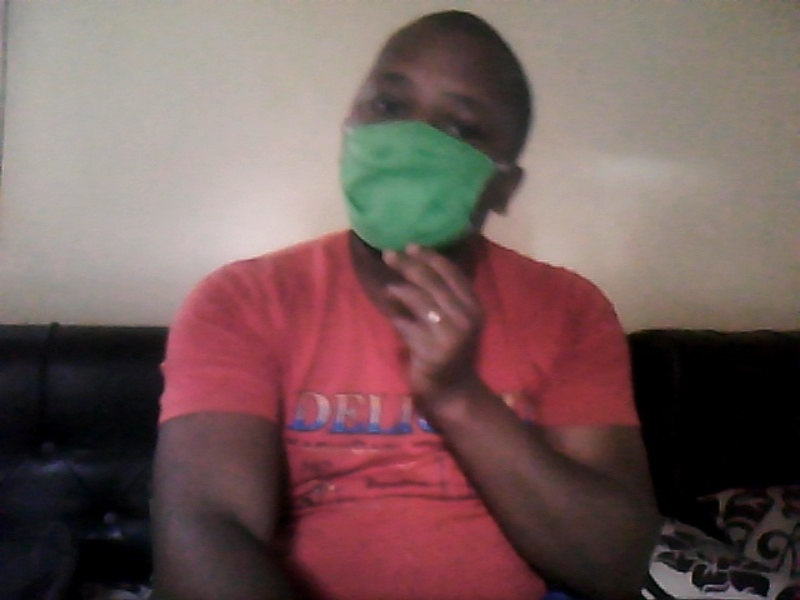ManaoArotava: (329, 8, 523, 275)
